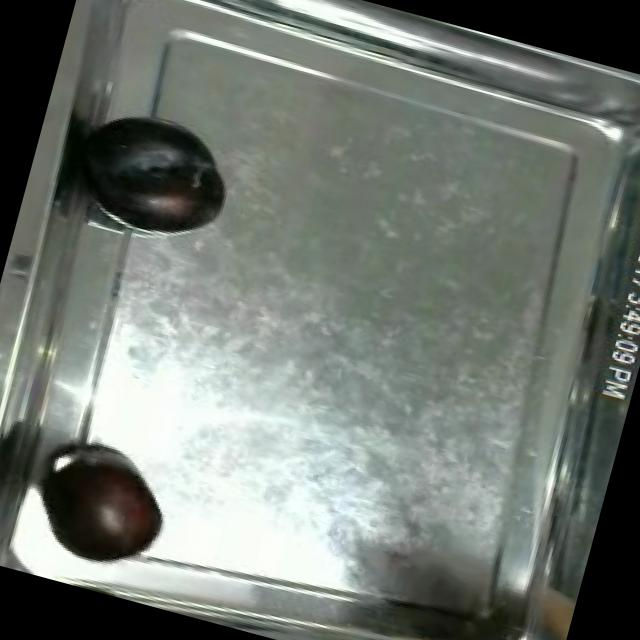Fruit: (68, 96, 249, 256), (21, 440, 180, 583)
